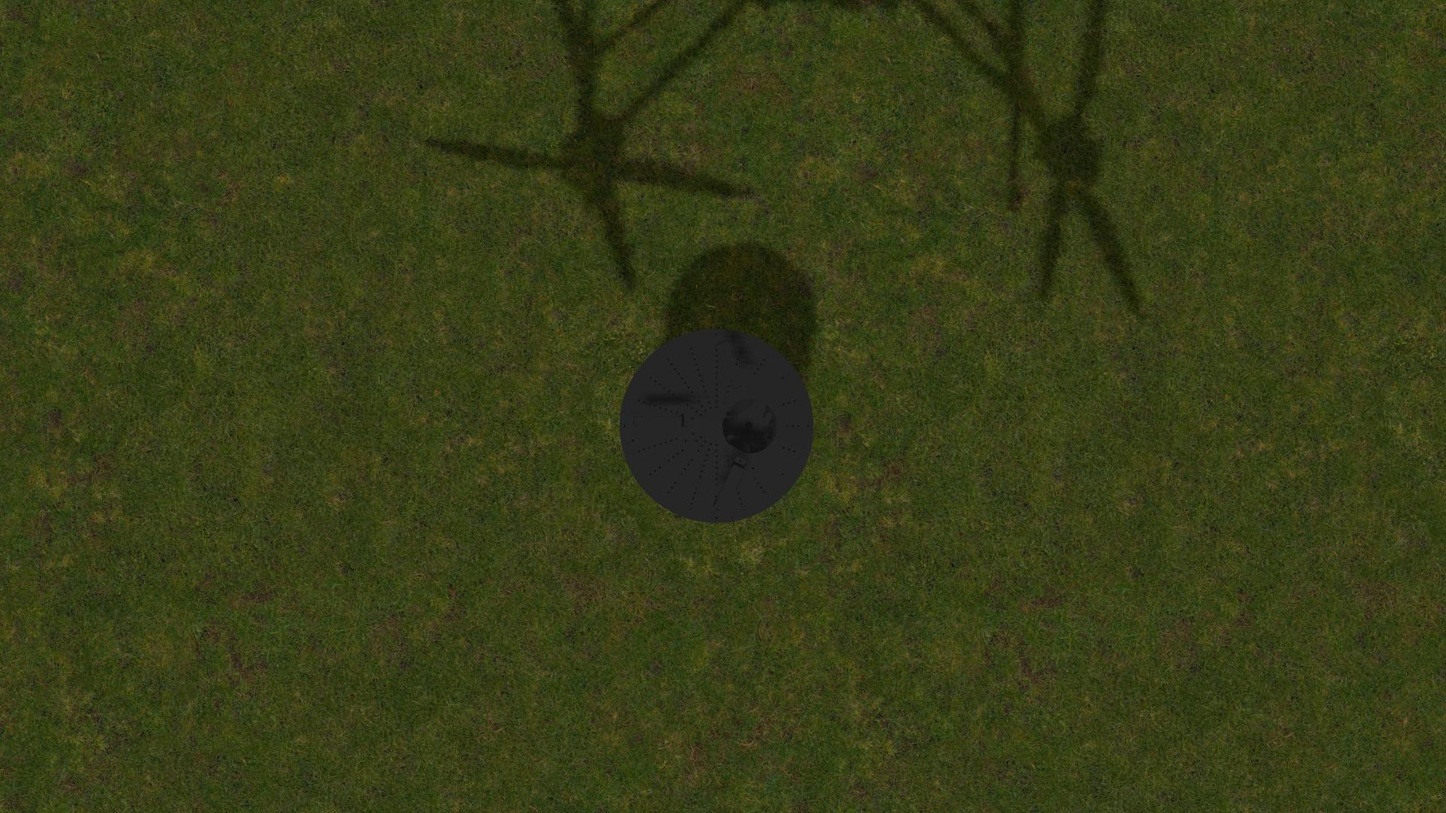alca: (711, 456, 747, 514), (713, 336, 747, 394), (630, 416, 691, 428)
armadilha: (619, 329, 814, 523)
